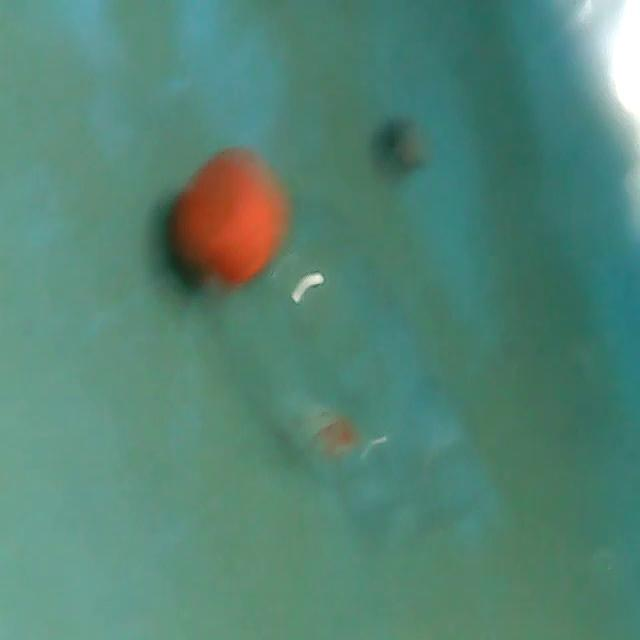plastic bottle: (169, 138, 537, 562)
